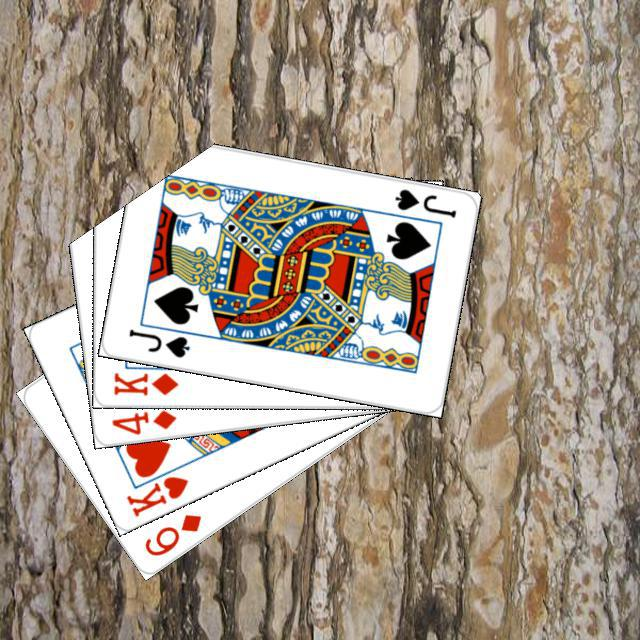4d: (107, 405, 178, 436)
6d: (139, 509, 204, 558)
Js: (123, 324, 191, 360), (390, 184, 458, 220)
Kd: (109, 367, 180, 397)
Kh: (121, 457, 190, 519)
